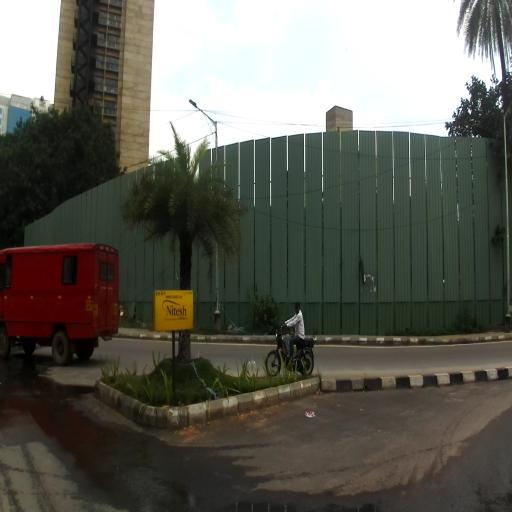street_light_0: (189, 99, 217, 130)
